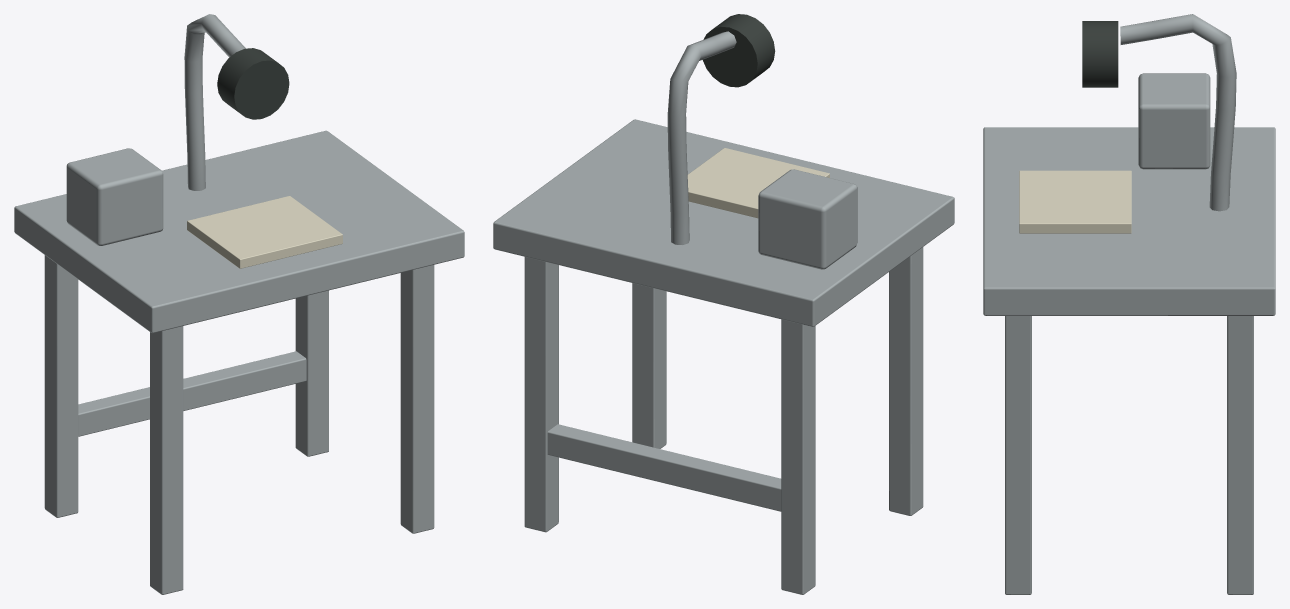
Rendered from research-and-crafting-progression-optical-inspection-s-accfd8c0__2842.glb.
The picture shows the model from 3 angles, left to right: view 1: azimuth 30°, elevation 25°; view 2: azimuth 150°, elevation 25°; view 3: azimuth 270°, elevation 25°; orthographic projection. The views are drawn at different scales.
Visible parts, largest first — view 1: optical-inspection-station; view 2: optical-inspection-station; view 3: optical-inspection-station.
Part boxes in pixels (x1,y1,x2,y2): optical-inspection-station: [14, 14, 464, 594]; optical-inspection-station: [493, 14, 954, 594]; optical-inspection-station: [983, 14, 1275, 594].
Bounding box in the file's own units: 0.85 × 1.25 × 0.65.
